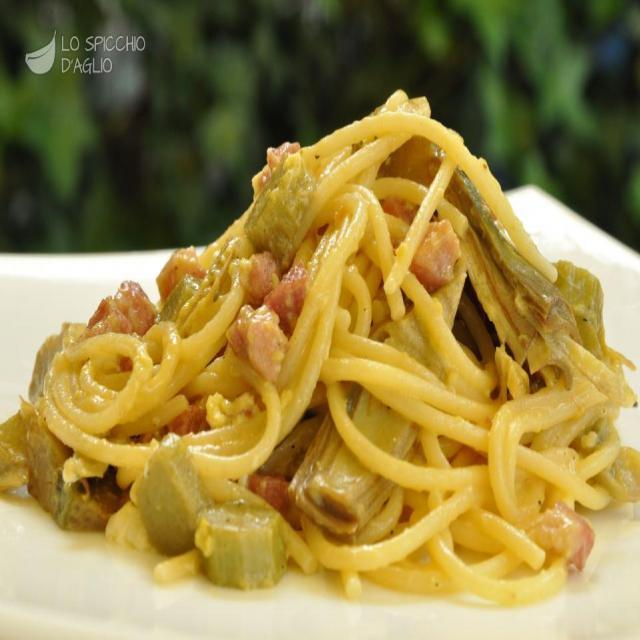Pasta with carbonara sauce: (75, 107, 630, 597)
